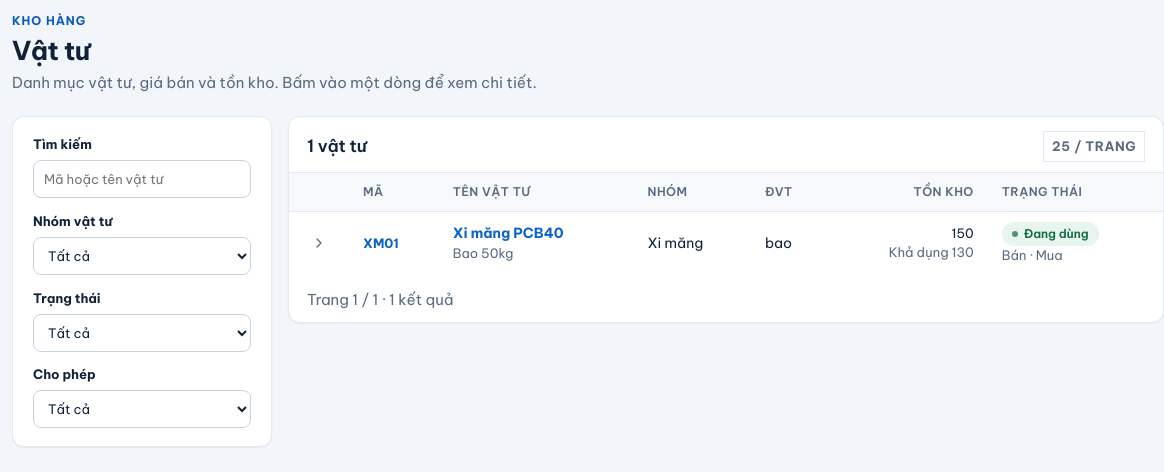
Test: expands a row in place with stock per warehouse and unit conversions
The width and height of the screenshot is (1164, 472).
Click the button named "Mở rộng Xi măng PCB40".
click(319, 244)  # box 303,228 -> 335,260
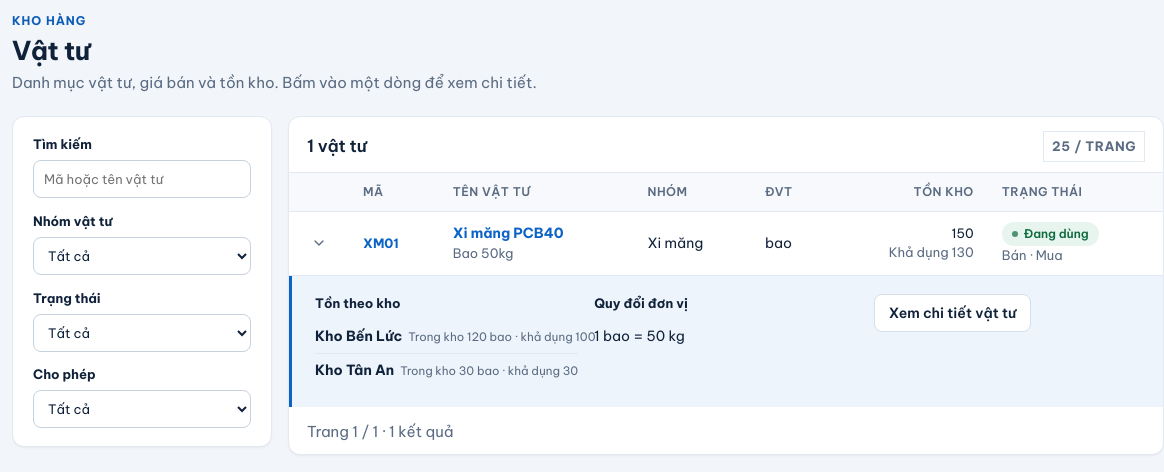
Expected: the text "Kho Bến Lức" is shown, 315,327 -> 402,345
Expected: the list item "1 bao = 50 kg" is shown, 594,327 -> 685,345
Expected: the button named "Thu gọn Xi măng PCB40" is expanded, 303,228 -> 335,260
